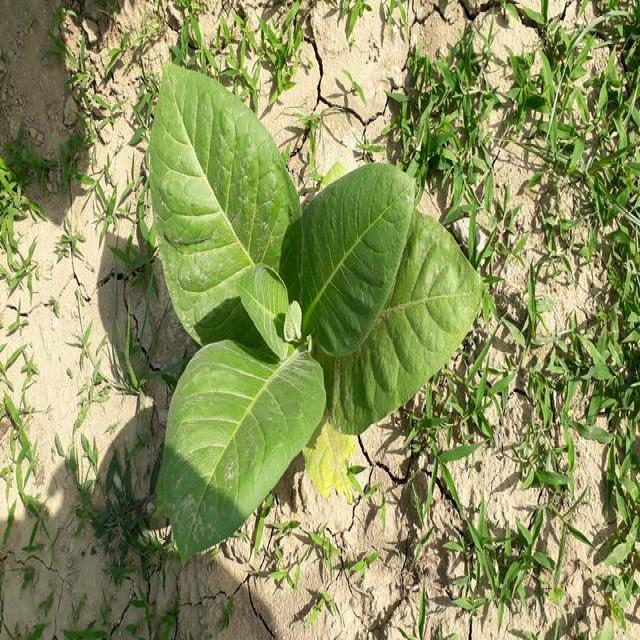crop: (150, 63, 478, 546)
